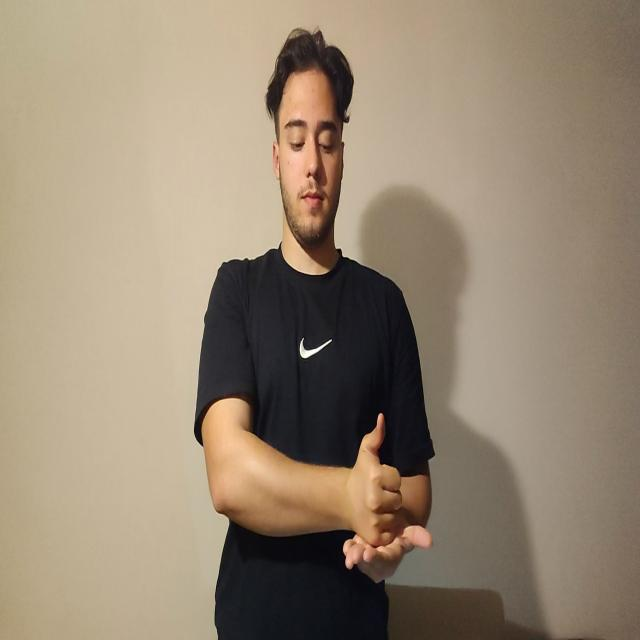help: (336, 415, 434, 582)
